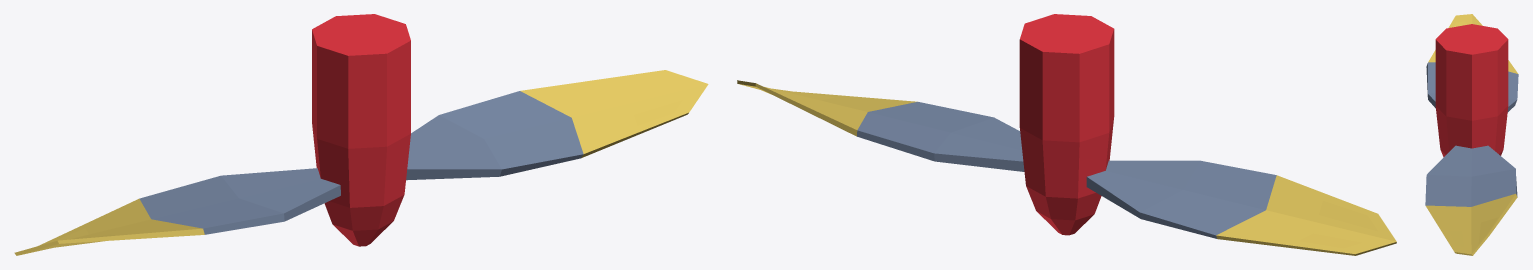
File: Propeller1.fbx
The picture shows the model from 3 angles, left to right: view 1: azimuth 30°, elevation 25°; view 2: azimuth 150°, elevation 25°; view 3: azimuth 270°, elevation 25°; orthographic projection. The views are drawn at different scales.
Visible parts, largest first — view 1: Cylinder.001; view 2: Cylinder.001; view 3: Cylinder.001.
Boxes of the visible parts, x1,y1,x2,y2 form: Cylinder.001: (14,14,708,255); Cylinder.001: (737,14,1396,255); Cylinder.001: (1425,14,1518,255).
Bounding box in the file's own units: 419 × 120 × 68.75.
